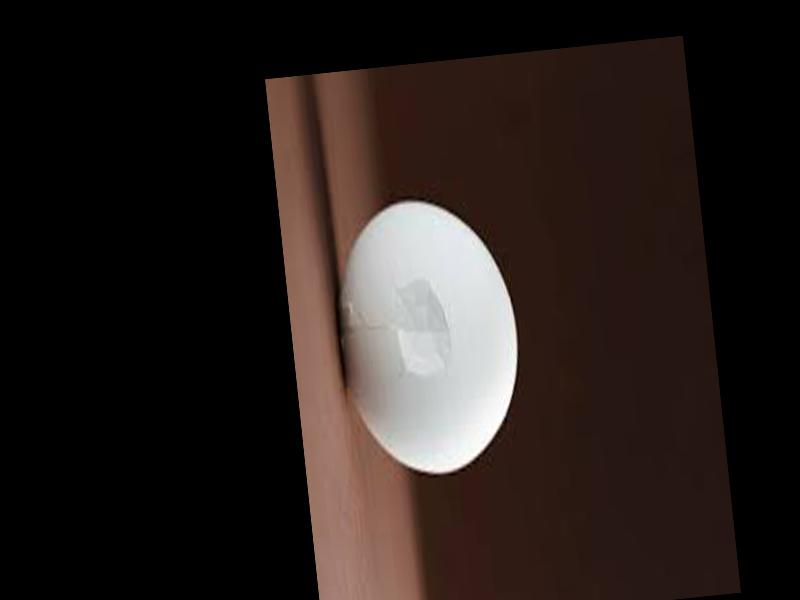Eggs: (326, 195, 530, 481)
